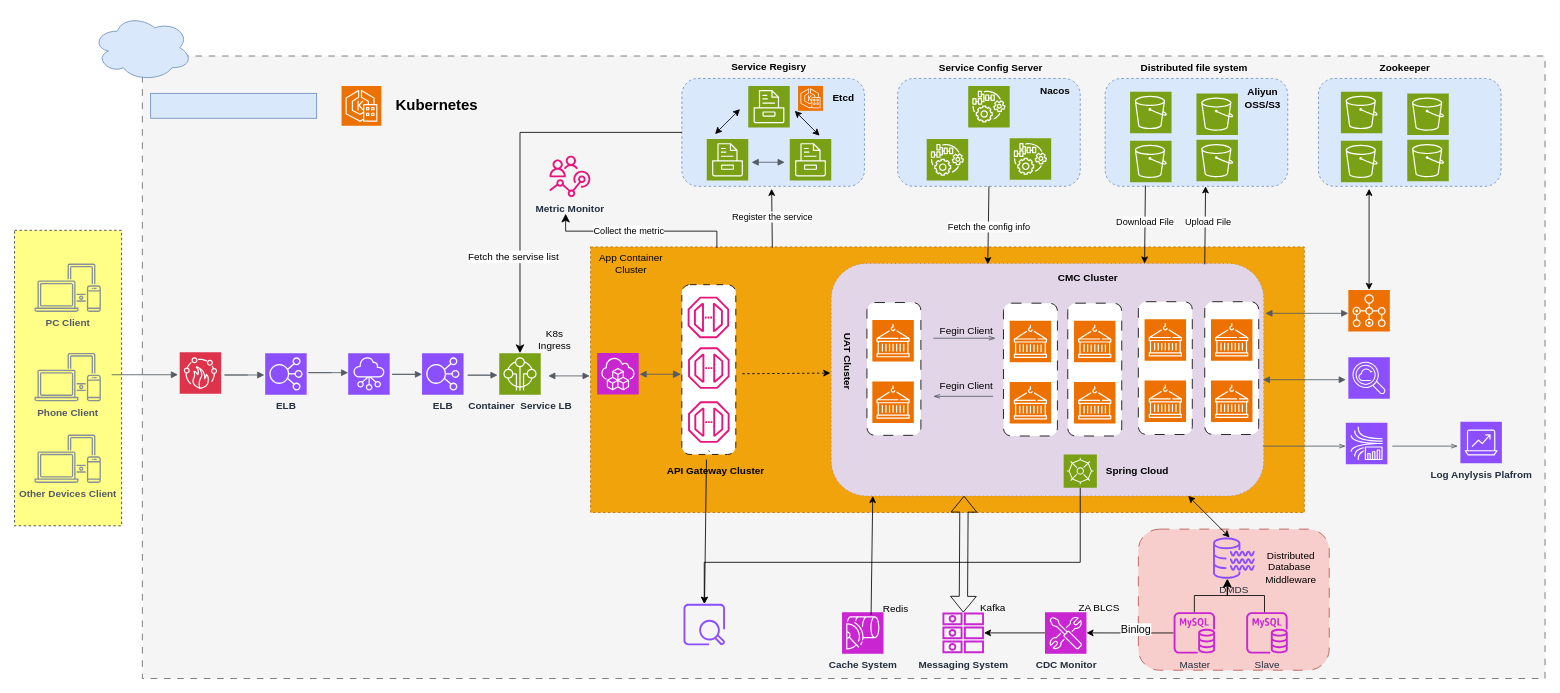
Image size: 1560x693. Some labels were removed from this diagram. The shapes that lost their labels are listed below. From the top down, each one's box as (x1, y1, x2, y2) in pixels, then its label:
(150, 93, 317, 118): Could Platform
(1348, 289, 1390, 331): Task Scheduing Platform
(179, 352, 221, 394): Network Firewall
(347, 352, 390, 395): Nginx
(596, 352, 639, 394): Front End Service
(1348, 356, 1390, 399): Business Search Cluster
(1345, 422, 1387, 464): Log Search Cluster
(683, 603, 725, 645): Distubuting Tracing
